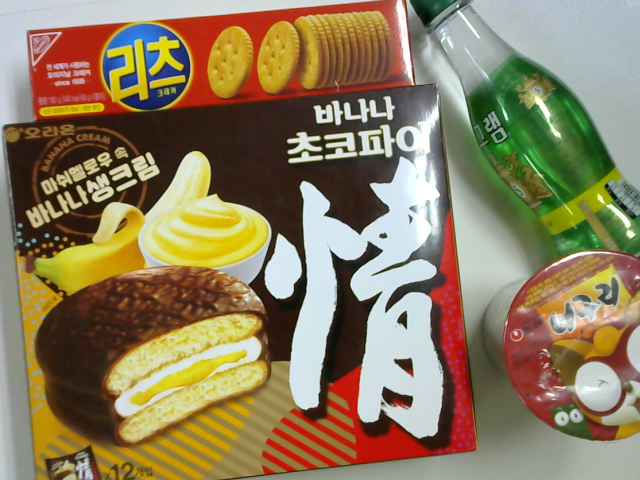Choco_Pie_Banana: (1, 77, 480, 478)
Raccoon: (472, 247, 640, 449)
Ritz_Cracker: (20, 1, 426, 124)
Seagram_Lemon_Carbonated_Water: (395, 5, 640, 285)
